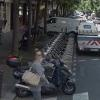Motorcycle: (7, 52, 80, 100)
